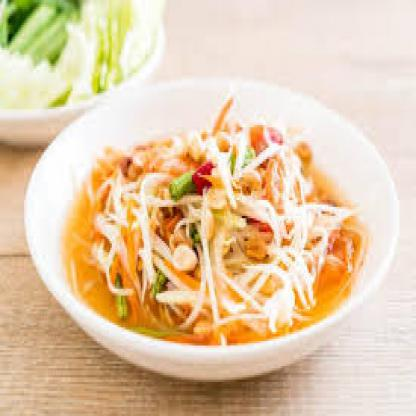Papaya Salad: (58, 118, 368, 380)
